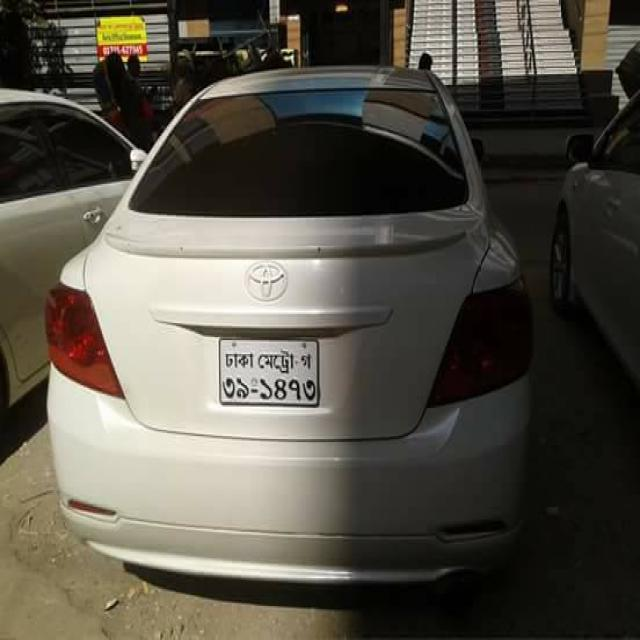numberplate: (217, 337, 319, 407)
